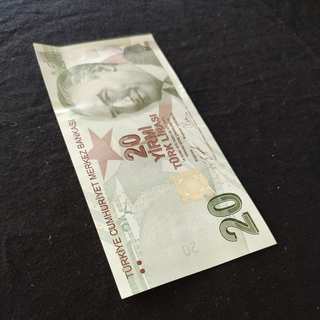20TLFront: (33, 31, 278, 300)
